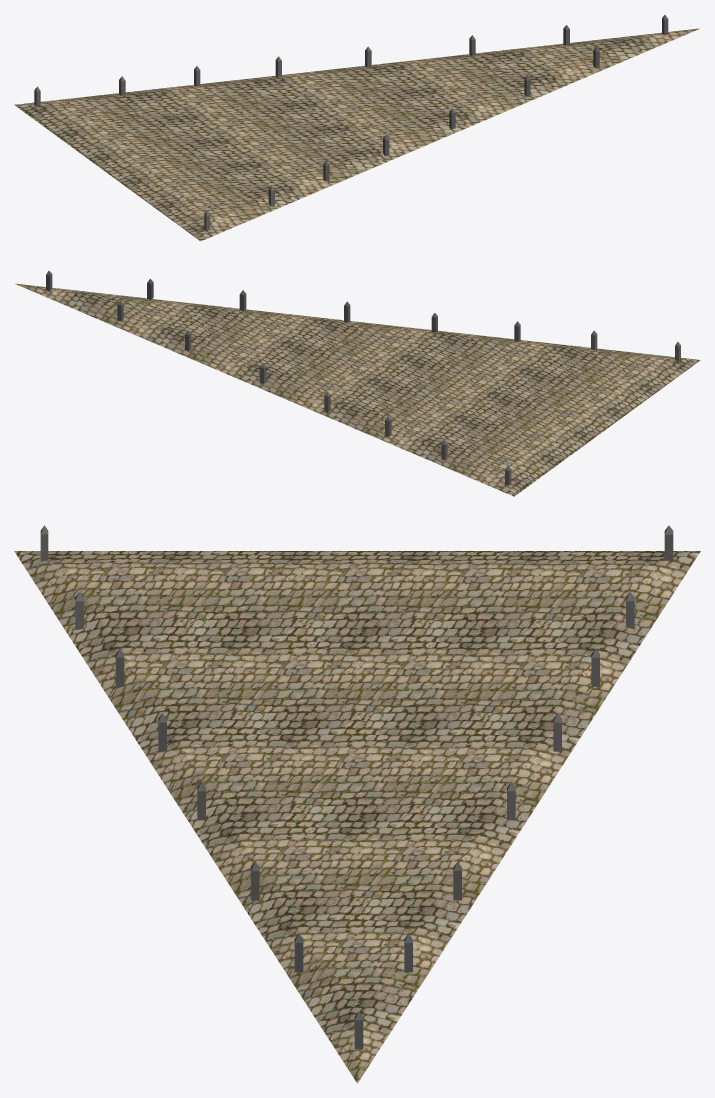
Rendered from Triangle floor.fbx.
The picture shows the model from 3 angles, top to bottom: view 1: azimuth 30°, elevation 25°; view 2: azimuth 150°, elevation 25°; view 3: azimuth 270°, elevation 25°; orthographic projection. The views are drawn at different scales.
Visible parts, largest first — view 1: Plane; view 2: Plane; view 3: Plane.
Boxes of the visible parts, x1=… form: Plane: x1=14, y1=28, x2=700, y2=241; Plane: x1=15, y1=283, x2=700, y2=496; Plane: x1=14, y1=551, x2=700, y2=1083.
Size of the model in its own units: 3484 by 128 by 1898.
Materials: 16 (1 with a texture image).
